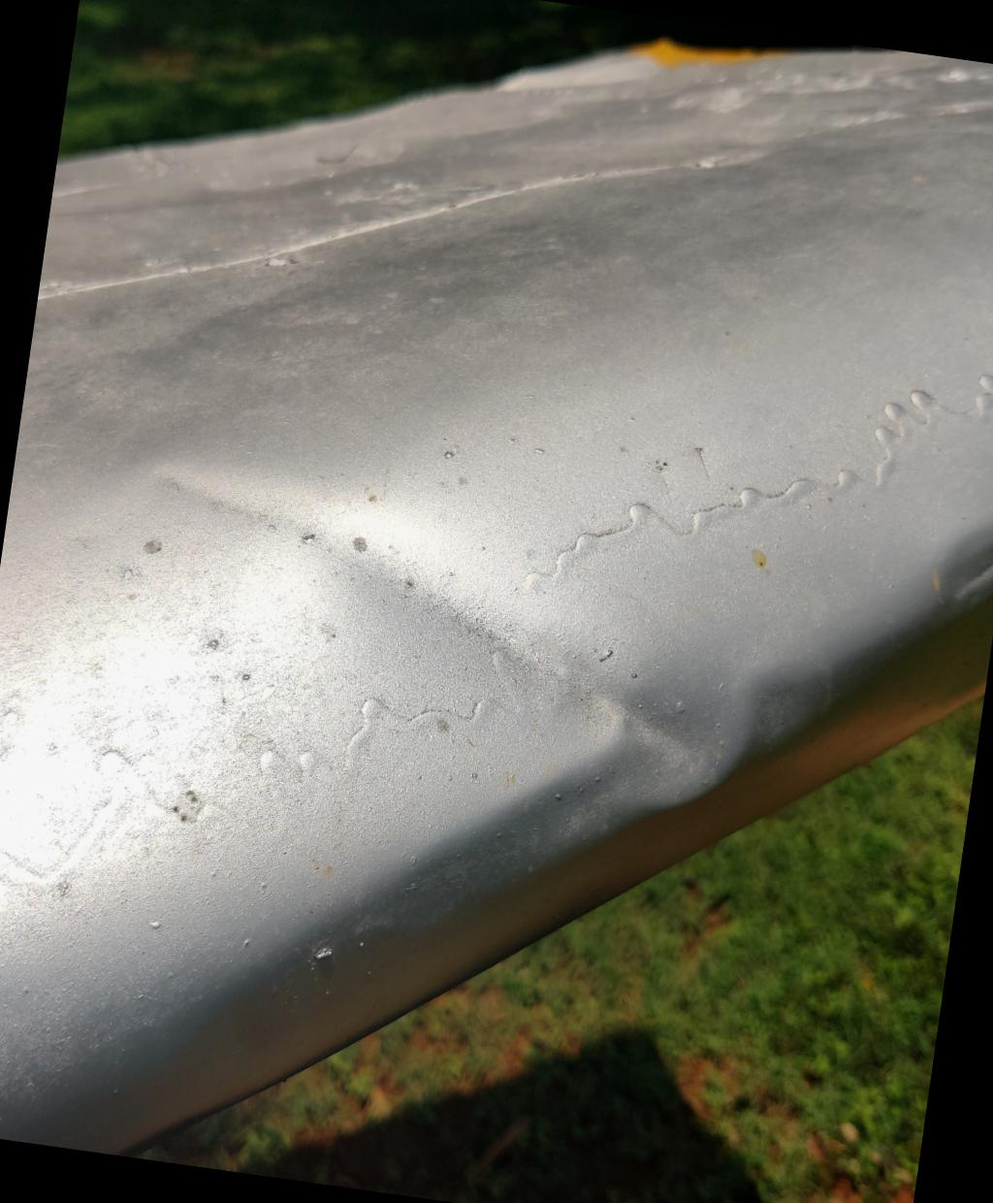dent: (152, 421, 850, 949), (910, 491, 993, 651)
